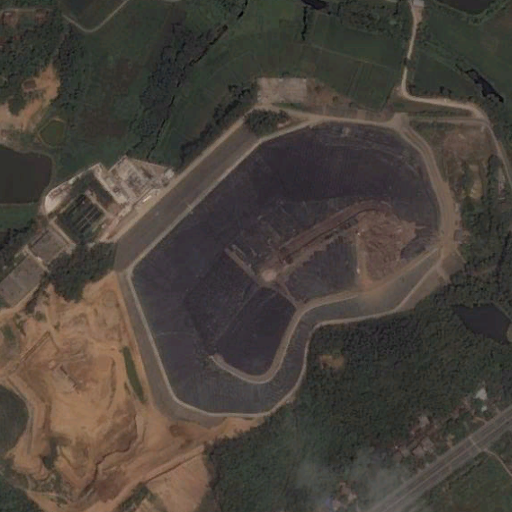lf: (127, 119, 444, 418)
